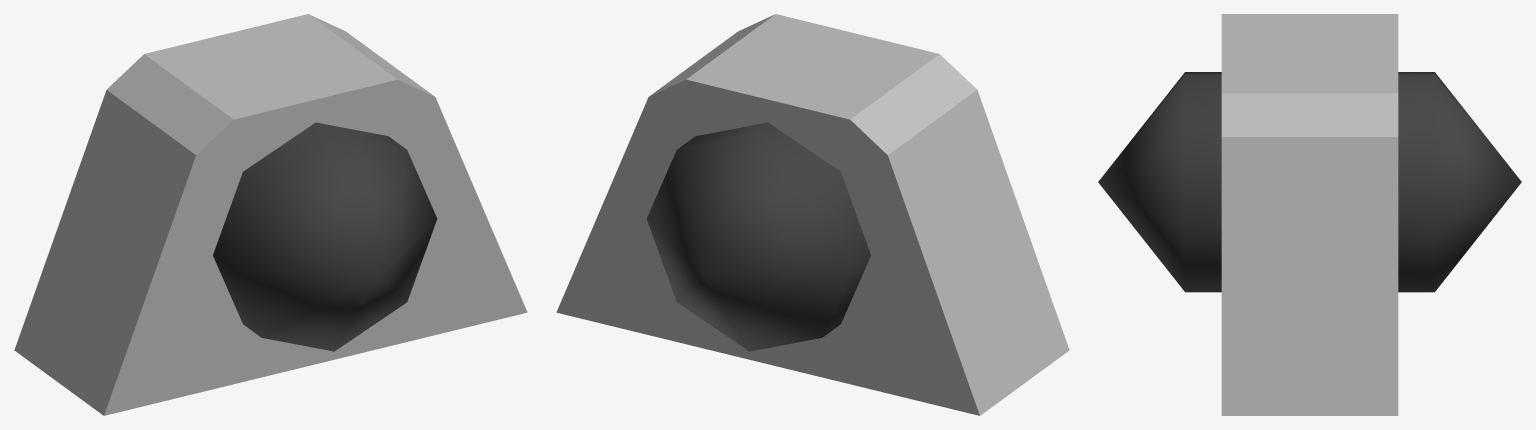
The model's file is pipe_001.fbx.
3 renders of one model, left to right at view 1: azimuth 30°, elevation 25°; view 2: azimuth 150°, elevation 25°; view 3: azimuth 270°, elevation 25°, orthographic.
Parts seen in each view (by area): view 1: pipe_001; view 2: pipe_001; view 3: pipe_001.
Part boxes in pixels (<box>): pipe_001: <box>14,14,527,415</box>; pipe_001: <box>556,14,1069,415</box>; pipe_001: <box>1098,14,1521,415</box>.
Bounding box in the file's own units: 201 × 177 × 120.
